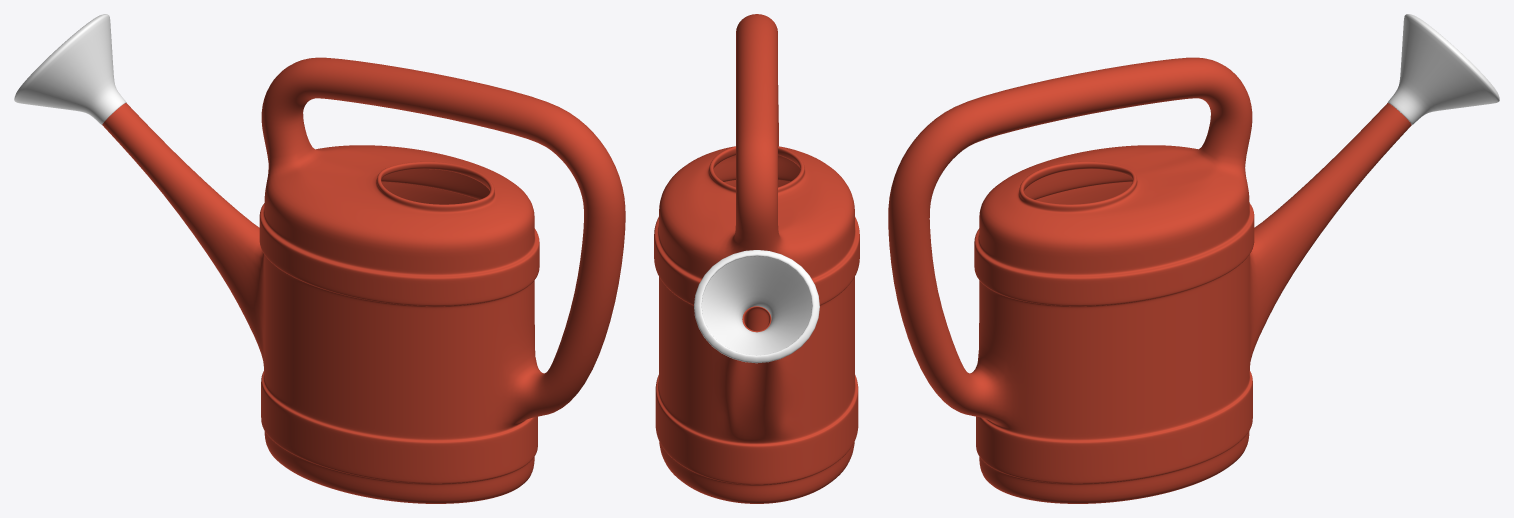
File: watering.fbx
The picture shows the model from 3 angles, left to right: view 1: azimuth 30°, elevation 25°; view 2: azimuth 150°, elevation 25°; view 3: azimuth 270°, elevation 25°; orthographic projection. The views are drawn at different scales.
Visible parts, largest first — view 1: watering; view 2: watering; view 3: watering.
Part boxes in pixels (x1,y1,x2,y2): watering: (14, 14, 625, 503); watering: (654, 14, 859, 503); watering: (888, 14, 1499, 503).
Bounding box in the file's own units: 102 × 112 × 158.
